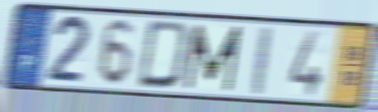2: (45, 12, 93, 88)
4: (287, 28, 325, 99)
6: (97, 17, 136, 88)
D: (134, 19, 193, 92)
I: (251, 23, 275, 97)
M: (182, 22, 244, 94)
